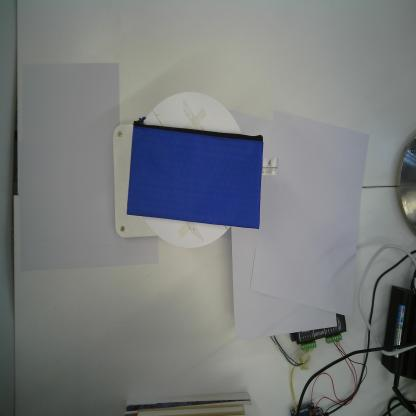Stationery: (125, 115, 280, 231)
